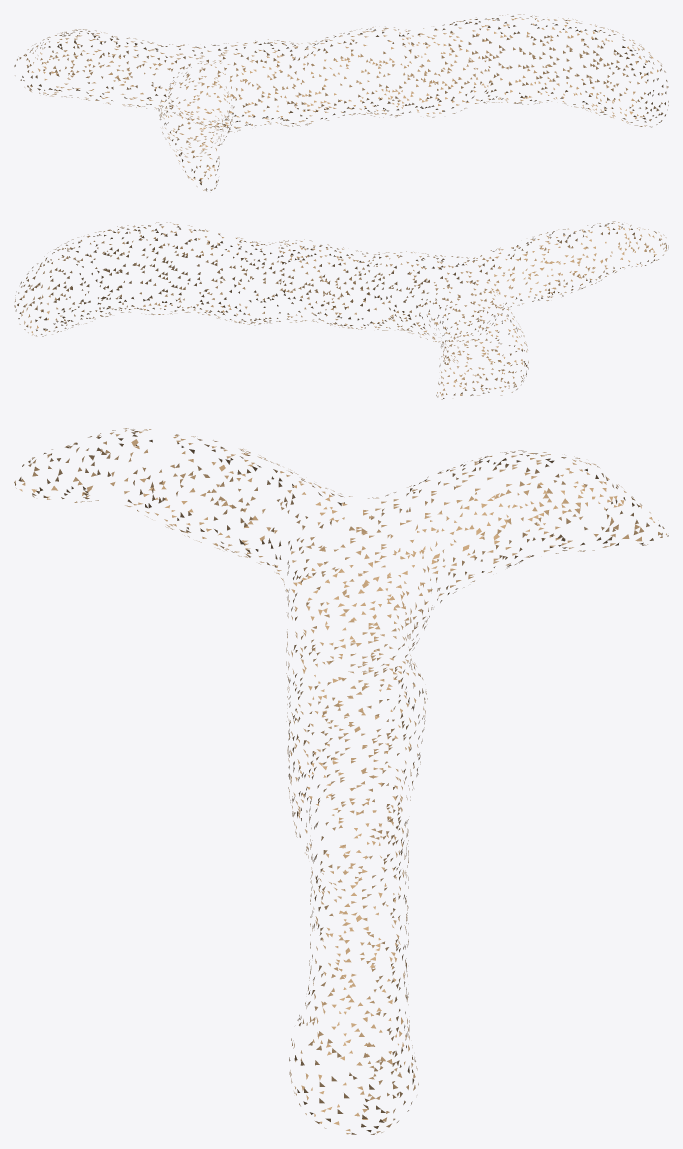
Rendered from morph_006.glb.
3 renders of one model, top to bottom at view 1: azimuth 30°, elevation 25°; view 2: azimuth 150°, elevation 25°; view 3: azimuth 270°, elevation 25°, orthographic. The views are drawn at different scales.
Size of the model in its own units: 128 by 40 by 78.79.
